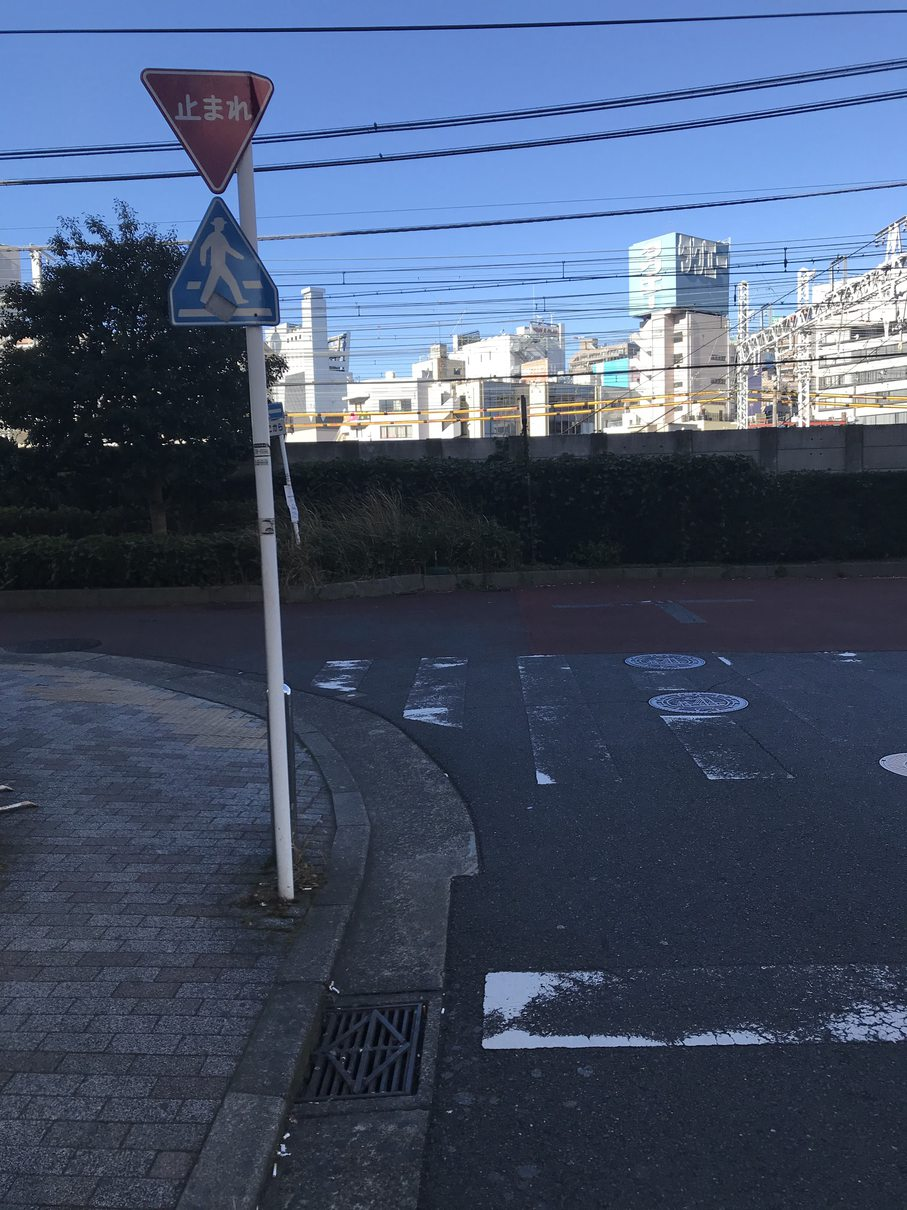stop_sign: (137, 63, 274, 196)
